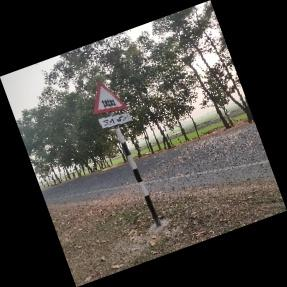Rail-crossing: (93, 80, 133, 130)
